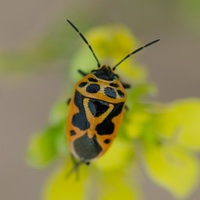insect: (66, 19, 159, 169)
